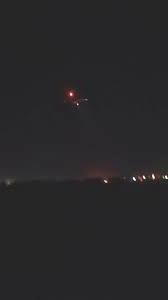Plane: (52, 85, 94, 115)
